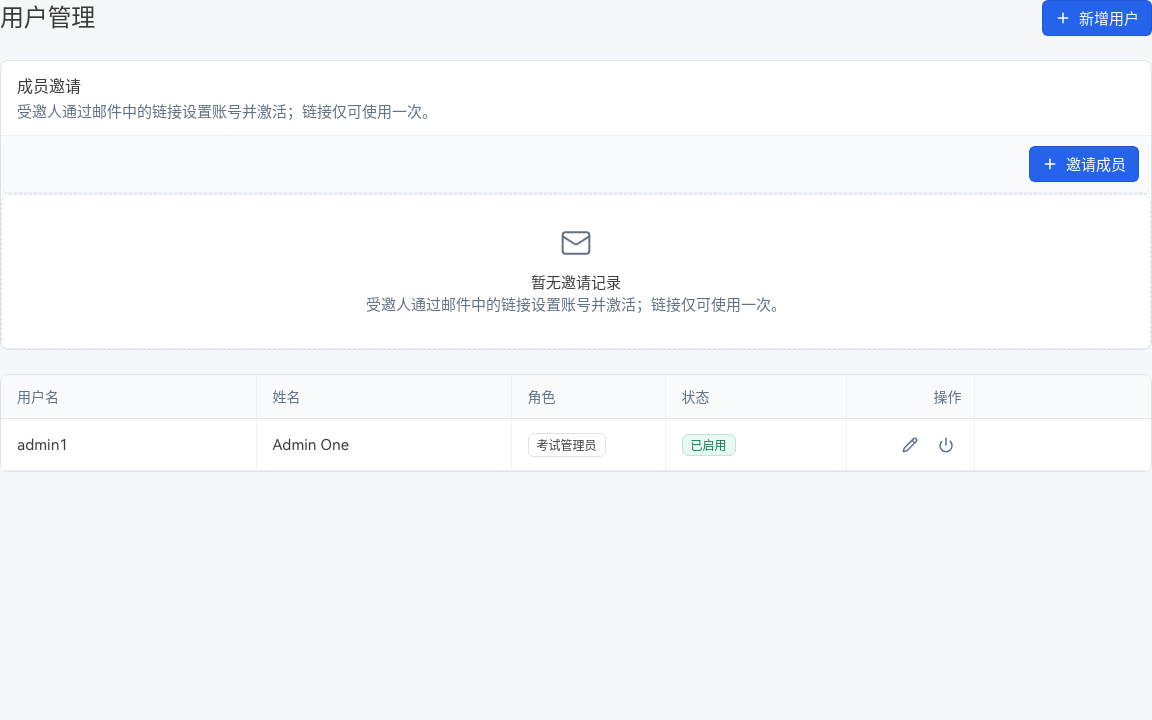
Test: UsersPage › shows validation errors for empty fields on create
Click the button "新增用户": (1097, 18) left=1042, top=0, right=1151, bottom=36
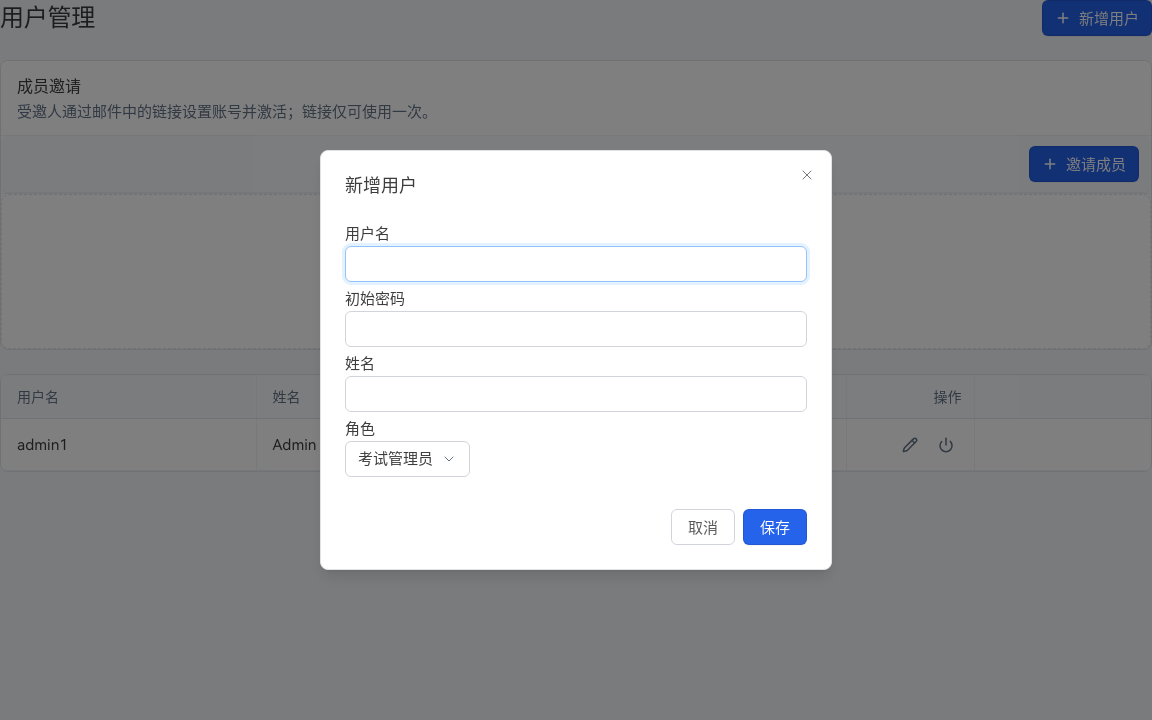
Click the button "保存": (775, 527) left=743, top=509, right=807, bottom=545
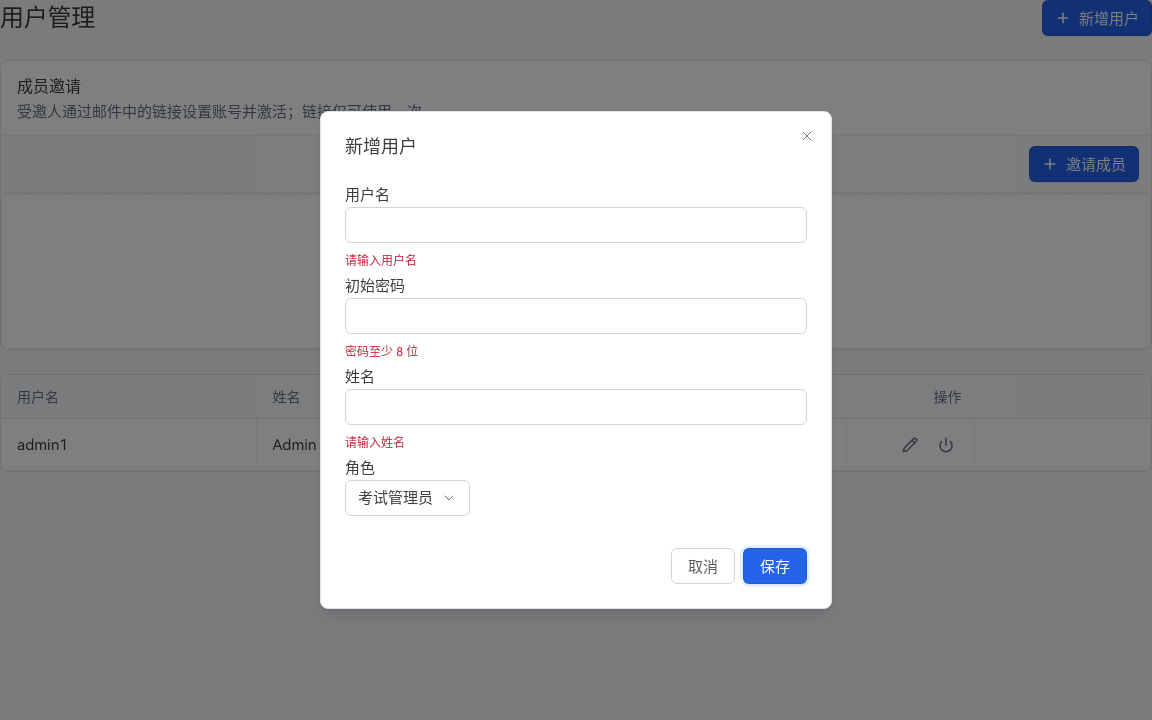
Expected: the text "请输入用户名" is shown, left=345, top=254, right=417, bottom=268
Expected: the text "请输入姓名" is shown, left=345, top=436, right=405, bottom=450
Expected: the text "密码至少 8 位" is shown, left=345, top=345, right=418, bottom=359
